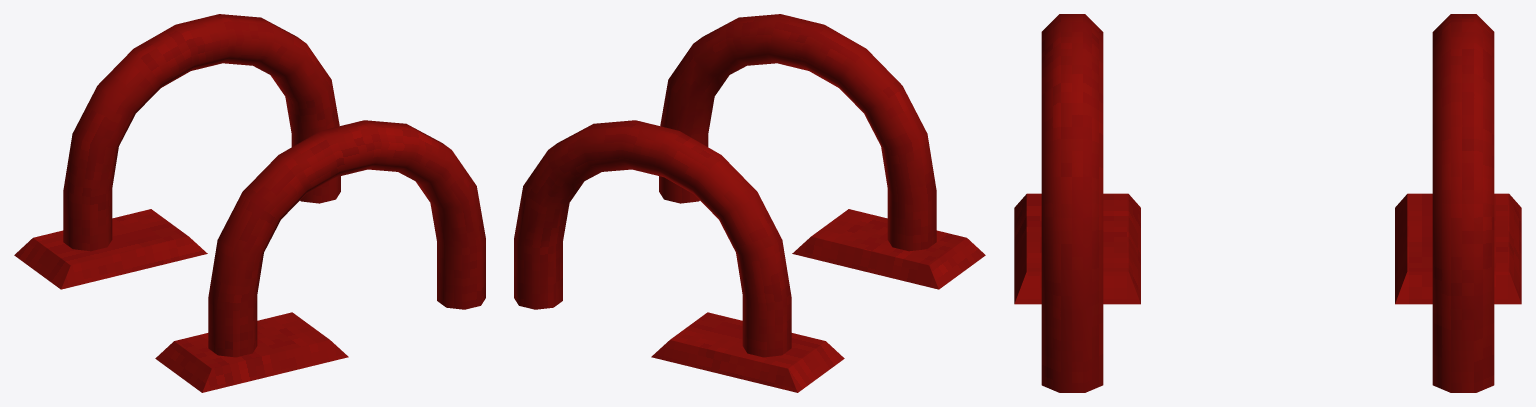
Rendered from red_ladder_top.obj.
The picture shows the model from 3 angles, left to right: view 1: azimuth 30°, elevation 25°; view 2: azimuth 150°, elevation 25°; view 3: azimuth 270°, elevation 25°; orthographic projection. The views are drawn at different scales.
Visible parts, largest first — view 1: Cylinder; view 2: Cylinder; view 3: Cylinder.
Boxes of the visible parts, box(x1,y1,x2,y2) form: Cylinder: box(14, 14, 485, 392); Cylinder: box(514, 14, 985, 392); Cylinder: box(1014, 14, 1521, 392).
Size of the model in its own units: 0.6578 by 0.4342 by 0.7131.
